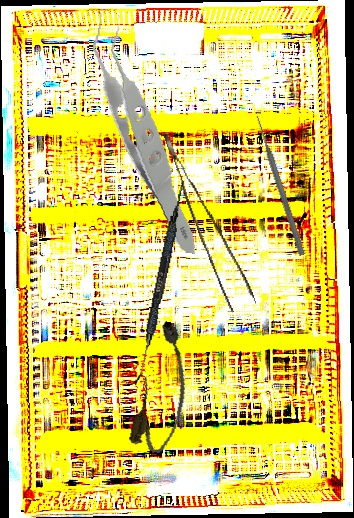Cannula: (127, 319, 201, 456)
Pusher: (253, 114, 307, 257)
Spatula Surgical: (134, 179, 187, 387)
Tissue Forceps: (61, 9, 233, 255), (163, 123, 257, 316)
